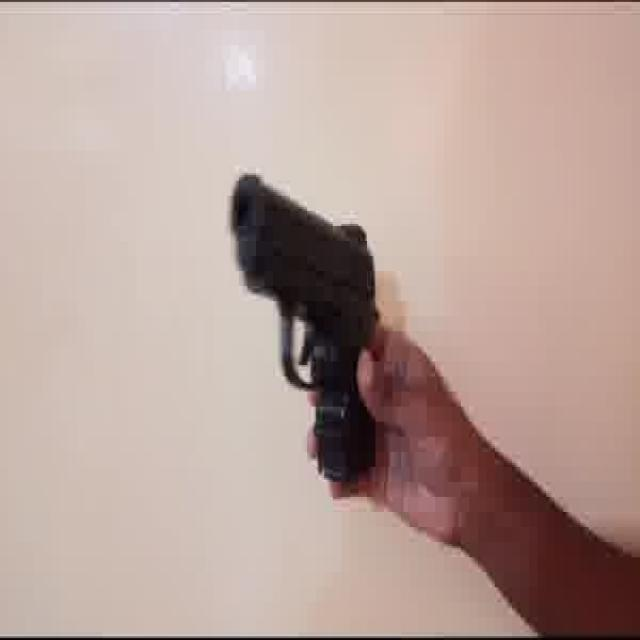weapon: (230, 170, 380, 485)
